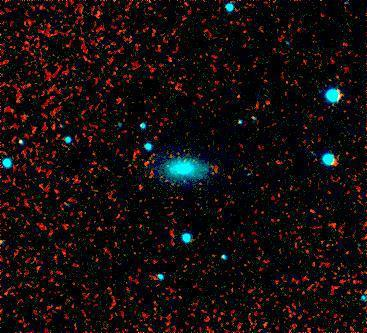star: (86, 30, 116, 60)
